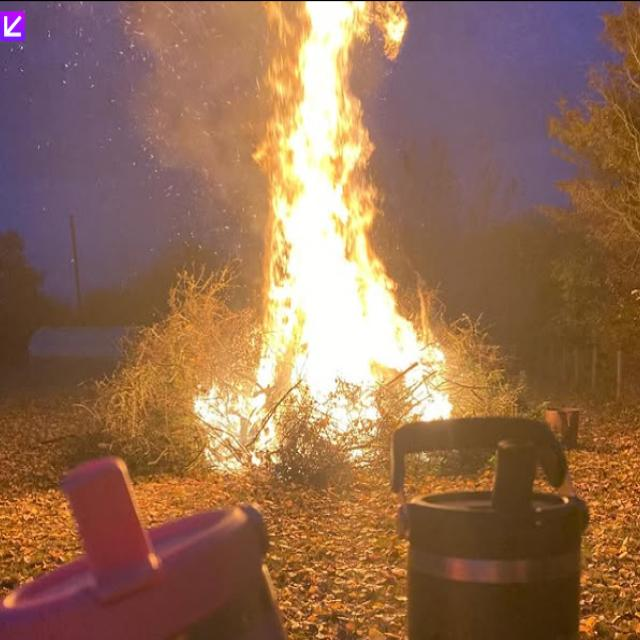fire: (251, 3, 406, 278), (256, 278, 453, 420), (195, 383, 283, 474), (308, 419, 380, 469)
